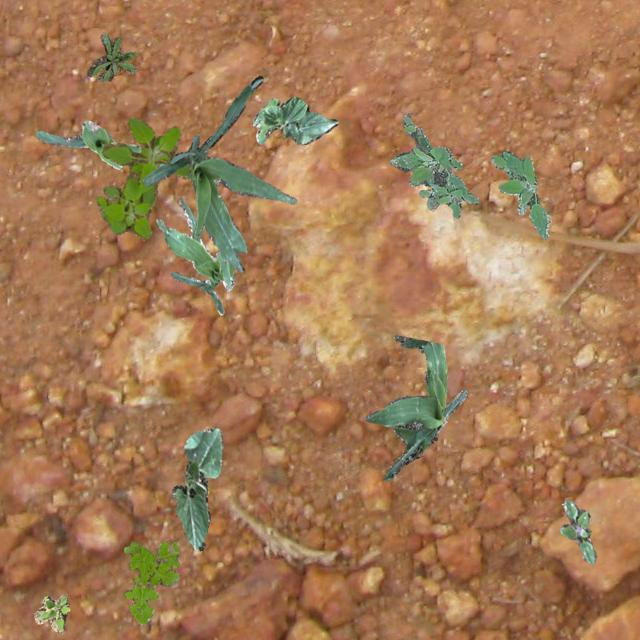crop: (142, 74, 296, 270), (364, 334, 466, 480), (154, 198, 233, 314), (172, 426, 222, 550), (34, 118, 140, 168), (252, 95, 336, 144)
weed: (94, 116, 190, 240), (388, 112, 478, 216), (489, 150, 548, 238), (122, 540, 178, 624), (86, 31, 136, 80), (560, 498, 596, 564), (34, 594, 68, 630)
